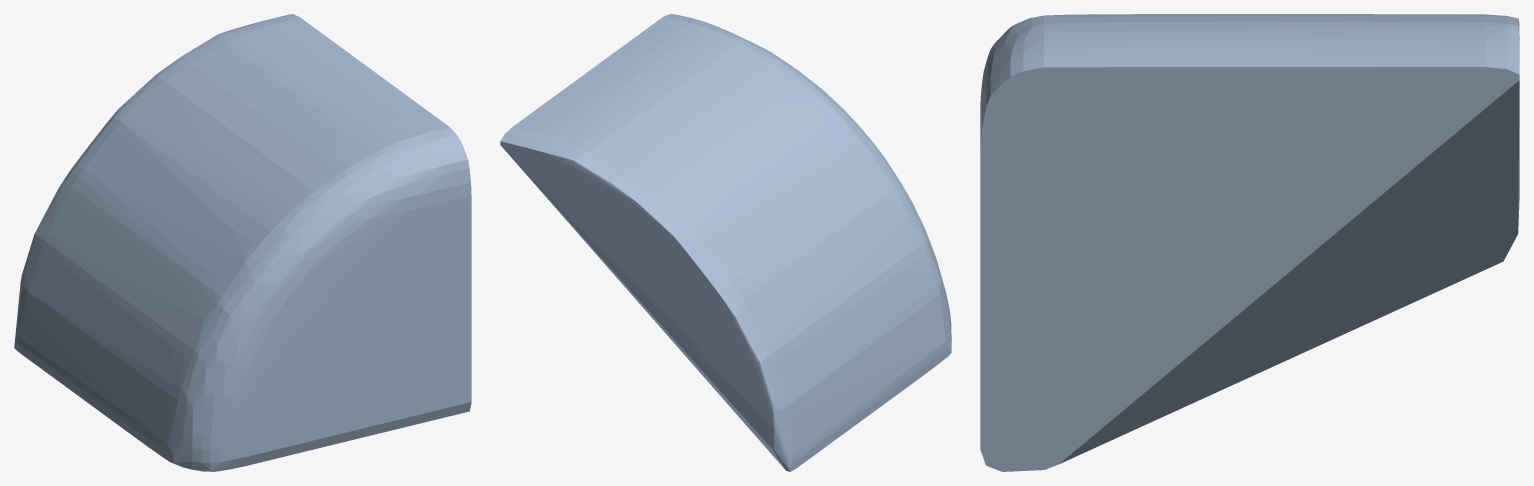
The model's file is left-tarsus-0_part_6.obj.
3 renders of one model, left to right at view 1: azimuth 30°, elevation 25°; view 2: azimuth 150°, elevation 25°; view 3: azimuth 270°, elevation 25°, orthographic. The views are drawn at different scales.
Bounding box in the file's own units: 0.0268 × 0.025 × 0.0302.
